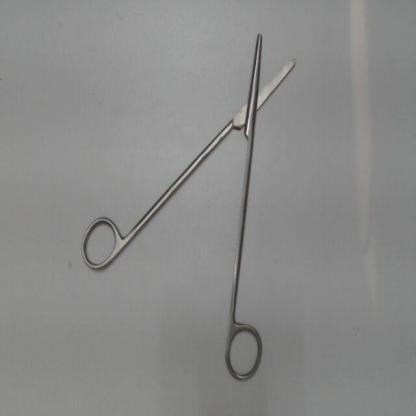9 Metzenbaum Scissors: (77, 30, 304, 389)
